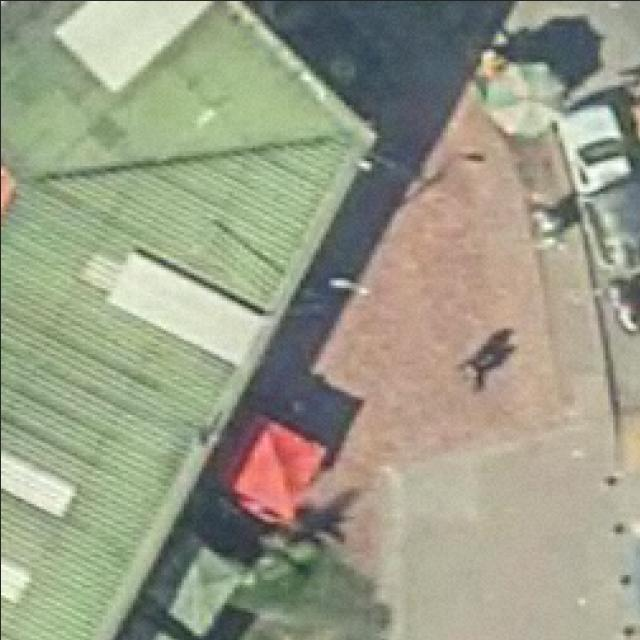vendedor_ambulante: (480, 52, 569, 142)
